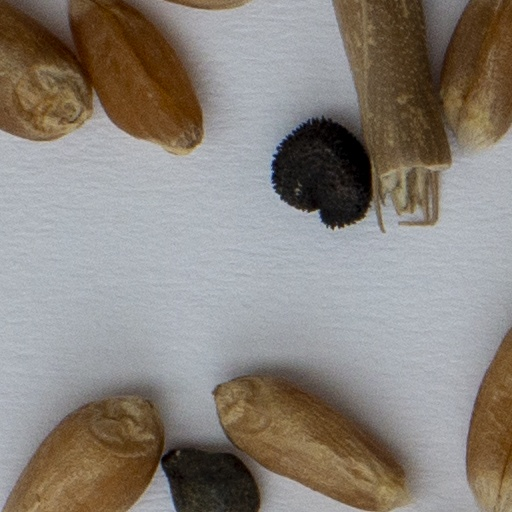Peel-poly: (333, 0, 451, 223)
